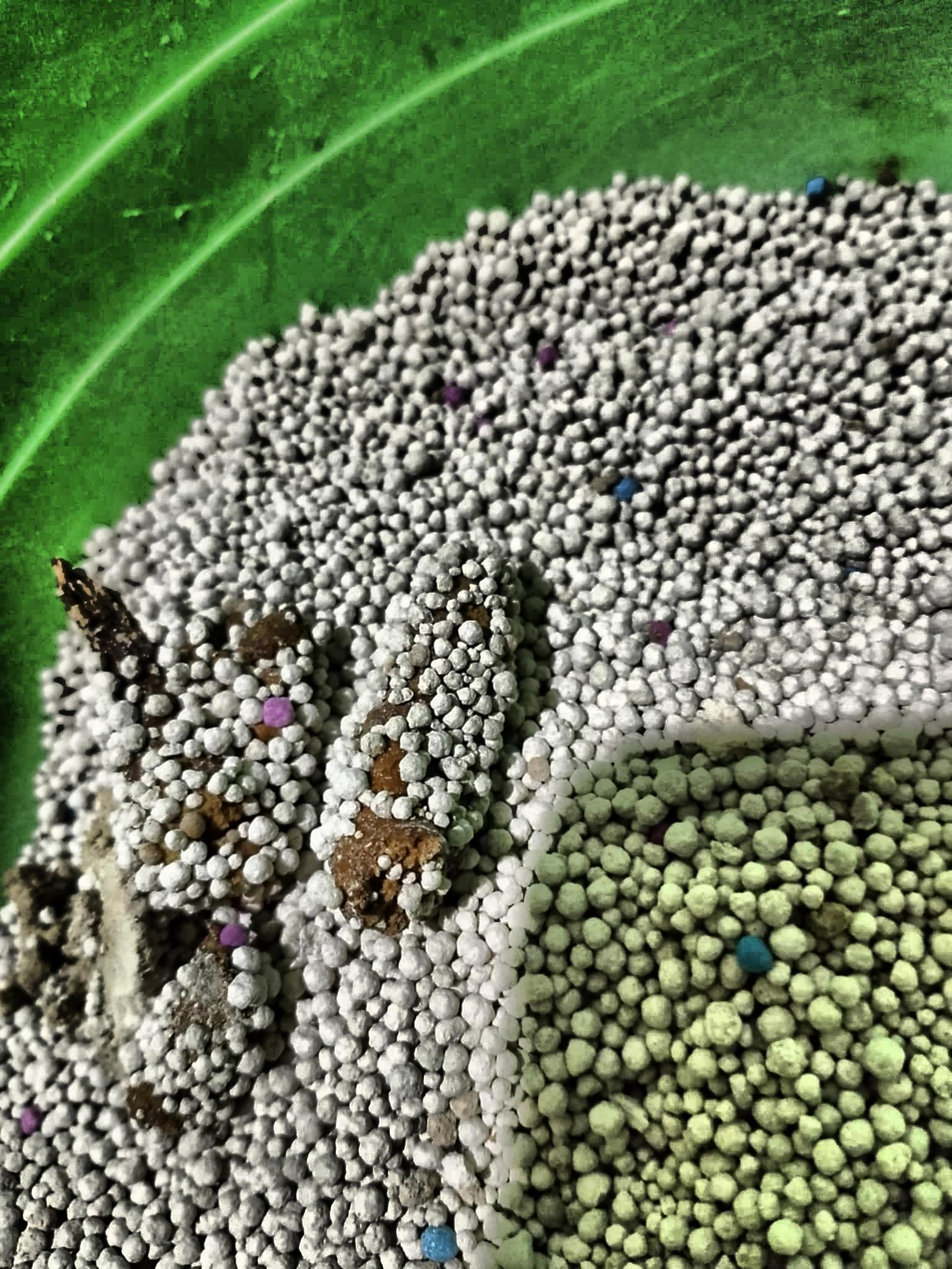poop: (58, 547, 550, 1133), (4, 861, 100, 1026)
